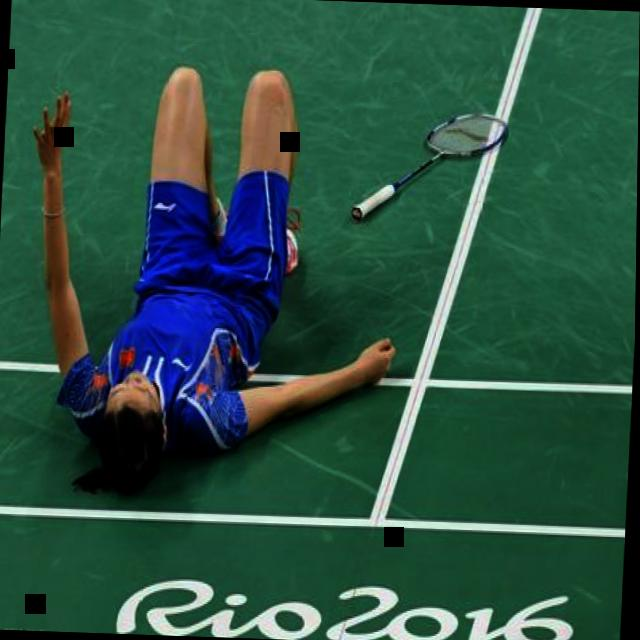Fall-Detected: (6, 34, 425, 485)
